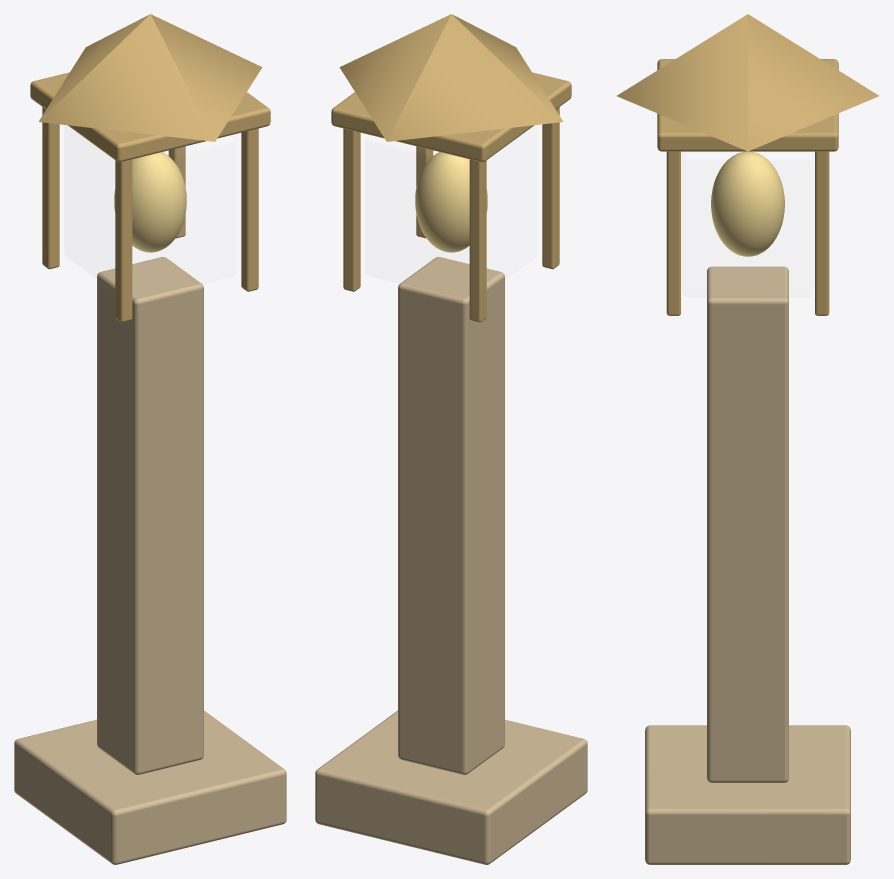
Rendered from griffin-airmail-roost-and-posthouse-landing-beacon-3158a9cd__30539.glb.
The picture shows the model from 3 angles, left to right: view 1: azimuth 30°, elevation 25°; view 2: azimuth 150°, elevation 25°; view 3: azimuth 270°, elevation 25°; orthographic projection.
Parts seen in each view (by area): view 1: landing-beacon; view 2: landing-beacon; view 3: landing-beacon.
Part boxes in pixels (<box>): landing-beacon: <box>14,14,286,864</box>; landing-beacon: <box>315,14,587,864</box>; landing-beacon: <box>617,14,878,864</box>.
Size of the model in its own units: 0.64 by 2.17 by 0.64.
